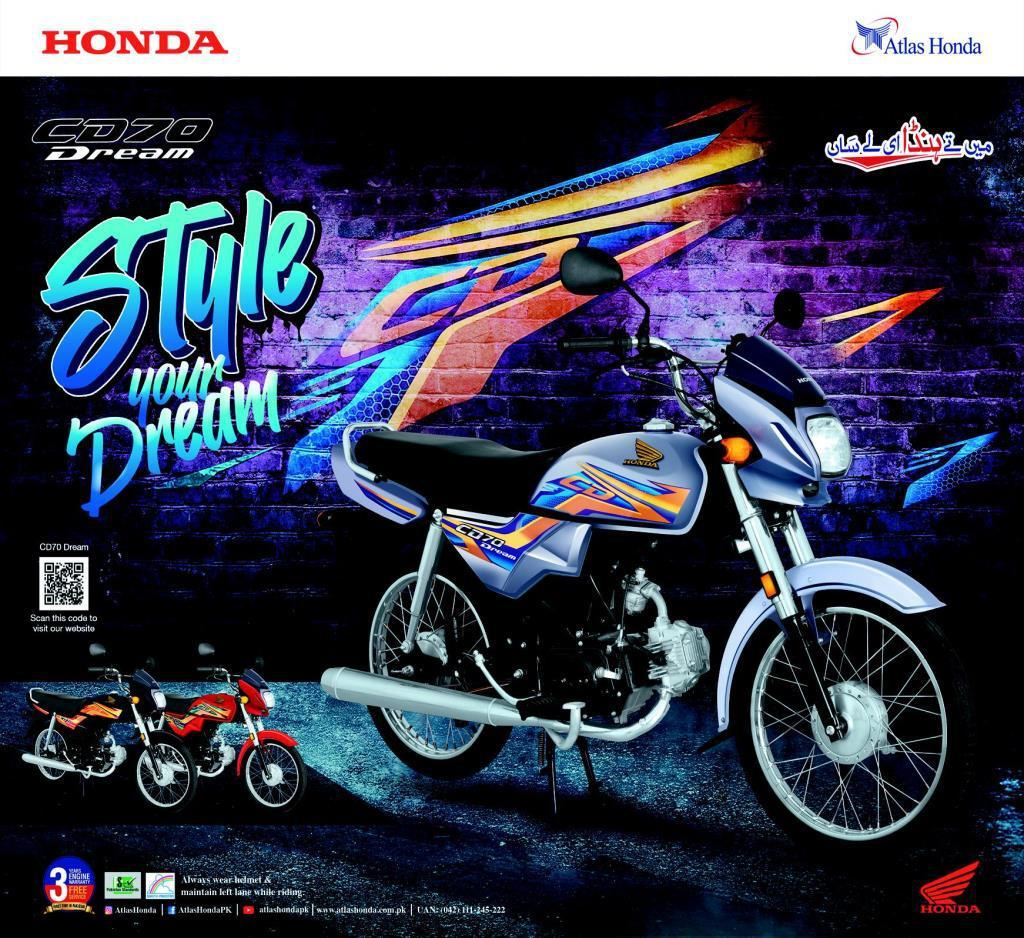bike: (336, 259, 958, 841), (24, 652, 194, 820), (164, 670, 310, 824)
